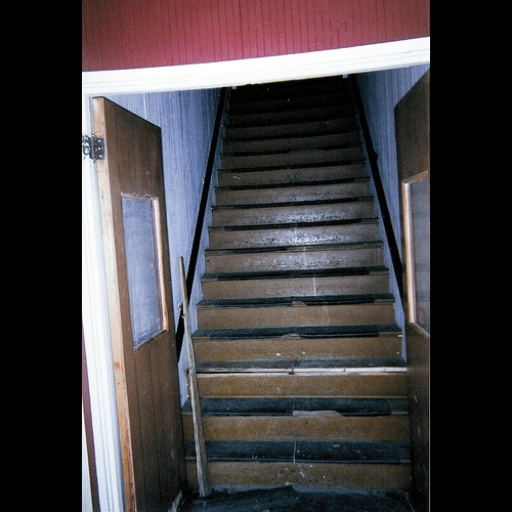Stairs: (193, 79, 410, 488)
